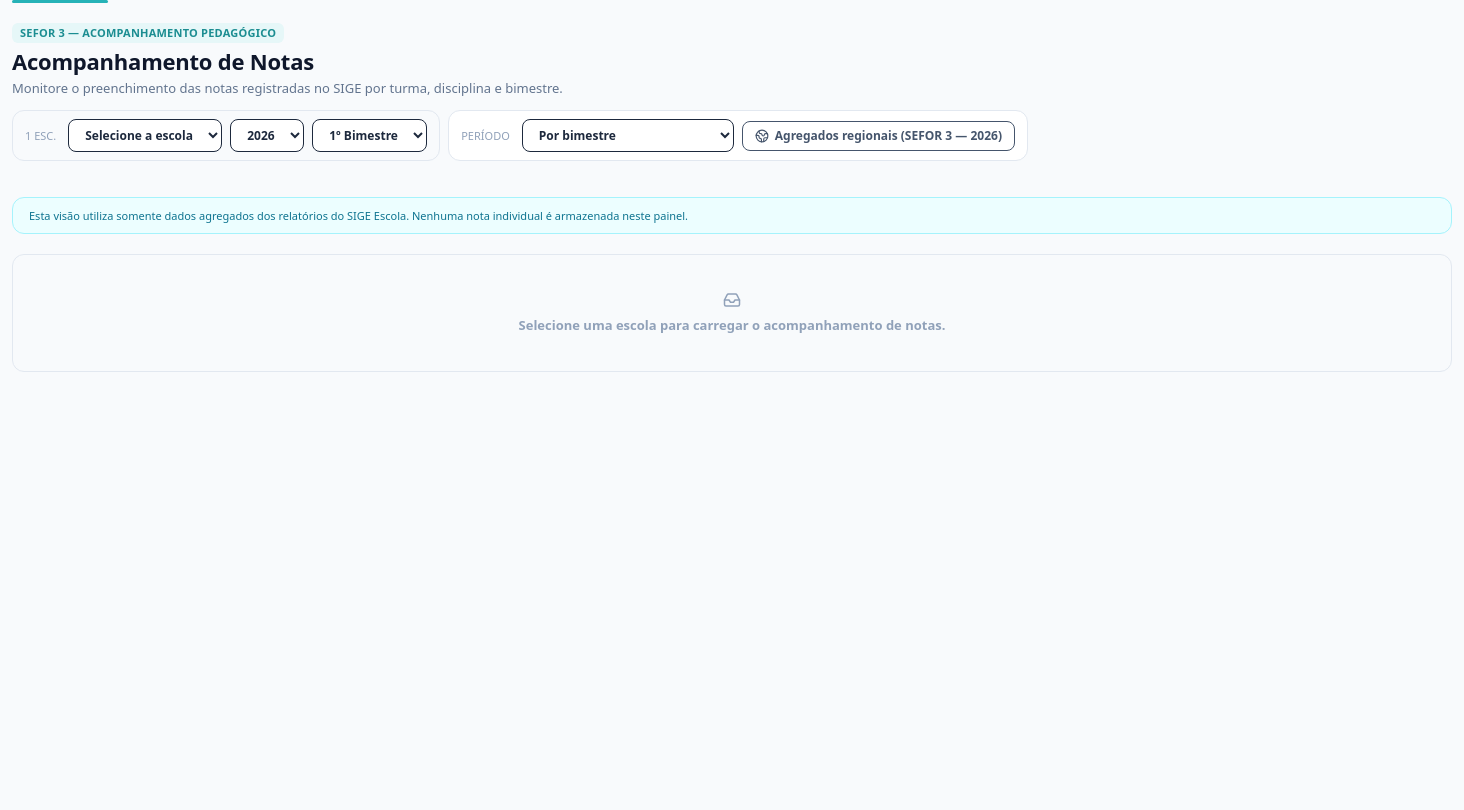
Test: NotasView › proteção contra contexto obsoleto (seção 4 do code review do PR #17) › resolver a Promise do bimestre anterior depois de já ter trocado de bimestre nunca sobrescreve o contexto atual
Step 1. Select "EEM Diva Cabral" in the dropdown named "Escola" → (145, 136), box [68,119,222,152]
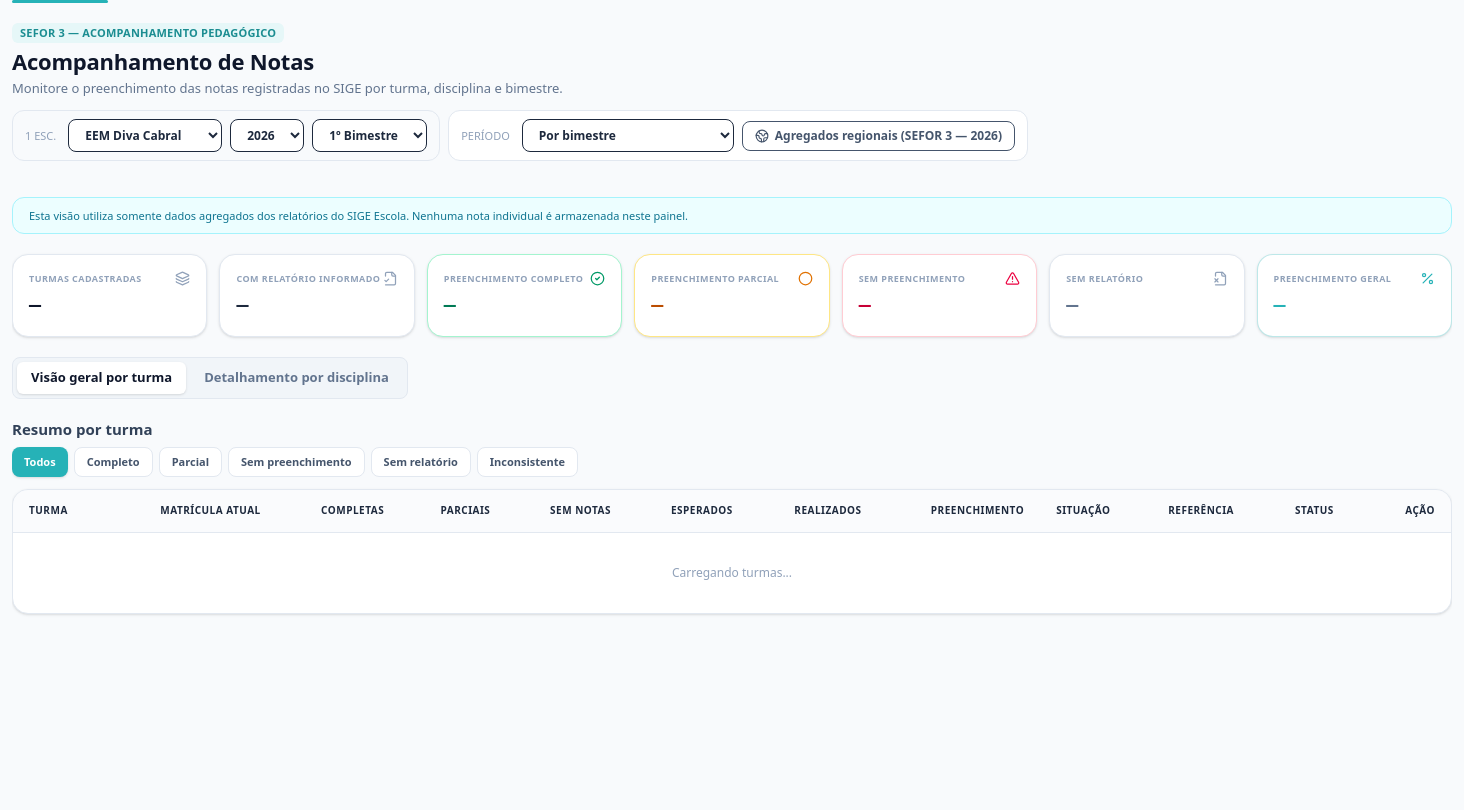
Step 2. Select "2º Bimestre" in the dropdown named "Bimestre" → (370, 136), box [312,119,427,152]
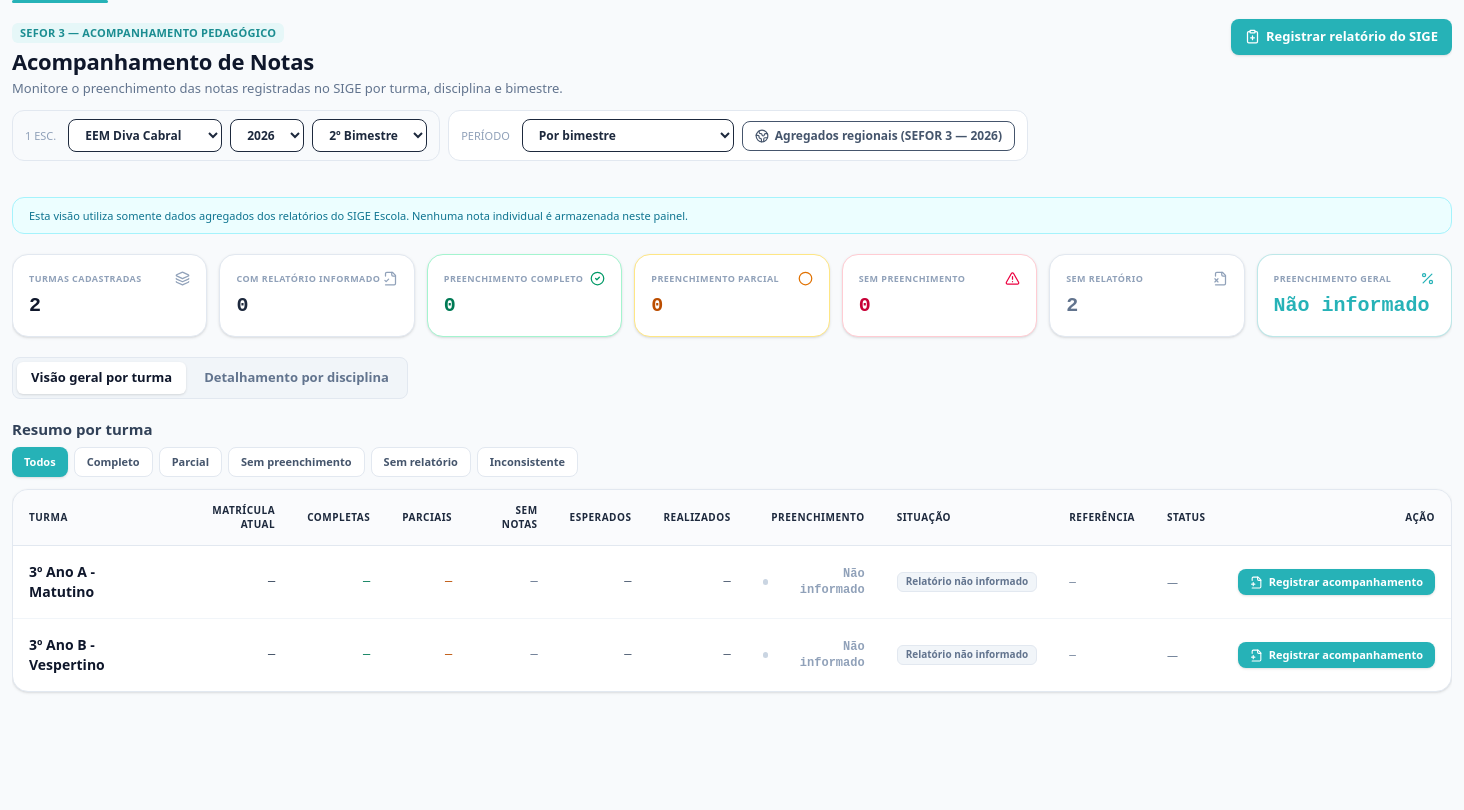
Expected: the text "Relatório não informado" in the row of "3º Ano A - Matutino" is shown, [906,574,1028,588]
